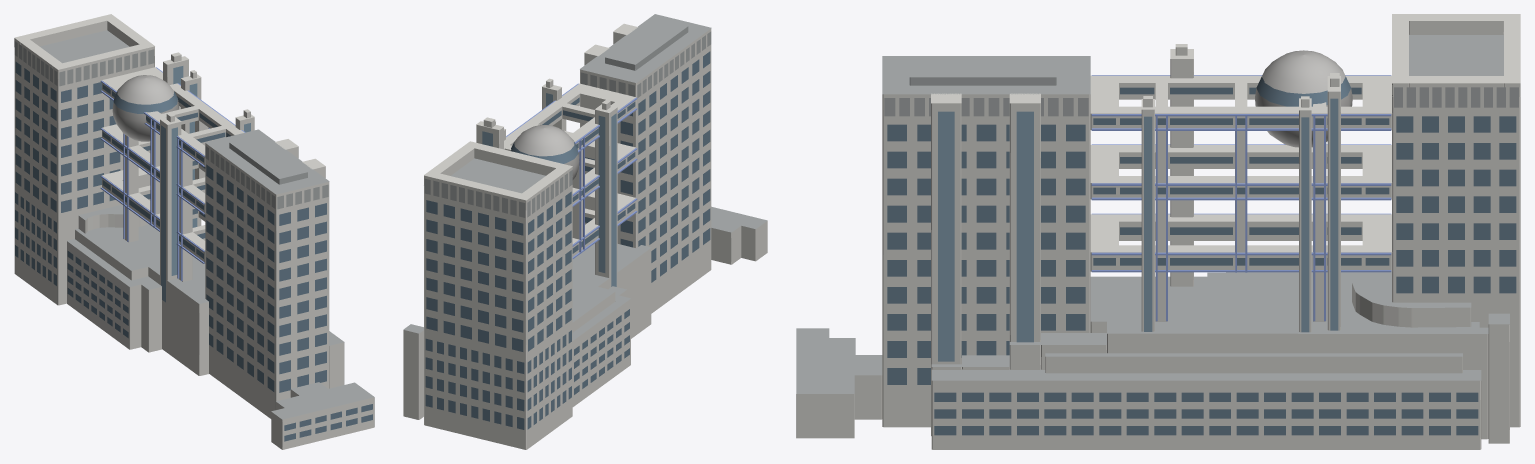
The model's file is tokyo-fuji-tv.glb.
3 renders of one model, left to right at view 1: azimuth 30°, elevation 25°; view 2: azimuth 150°, elevation 25°; view 3: azimuth 270°, elevation 25°, orthographic. The views are drawn at different scales.
Visible parts, largest first — view 1: Fuji Television headquarters; view 2: Fuji Television headquarters; view 3: Fuji Television headquarters.
Part boxes in pixels (<box>): Fuji Television headquarters: <box>14,14,374,449</box>; Fuji Television headquarters: <box>403,14,767,449</box>; Fuji Television headquarters: <box>796,14,1520,449</box>.
Size of the model in its own units: 71.02 by 127 by 237.
